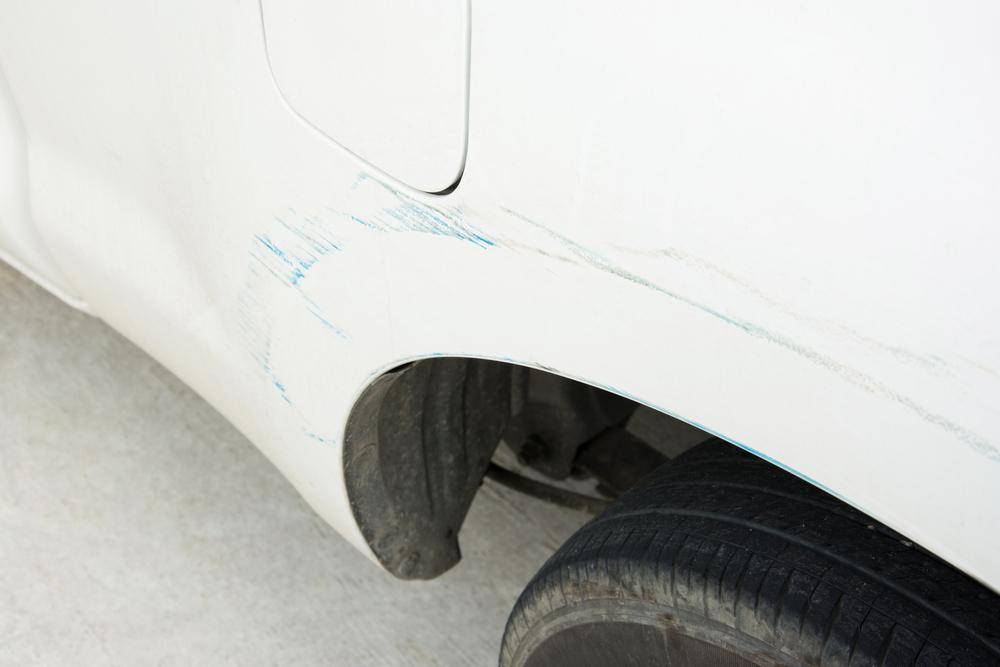scratch: (234, 171, 1000, 474)
